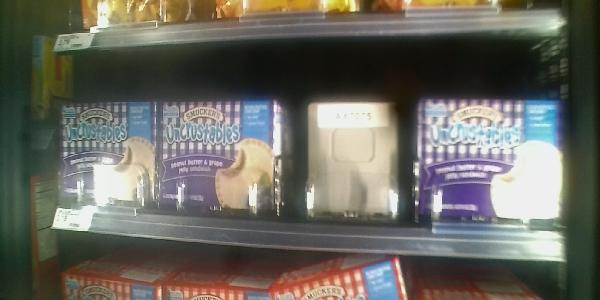icecream: (413, 97, 571, 230), (158, 100, 277, 223), (57, 100, 157, 213)
